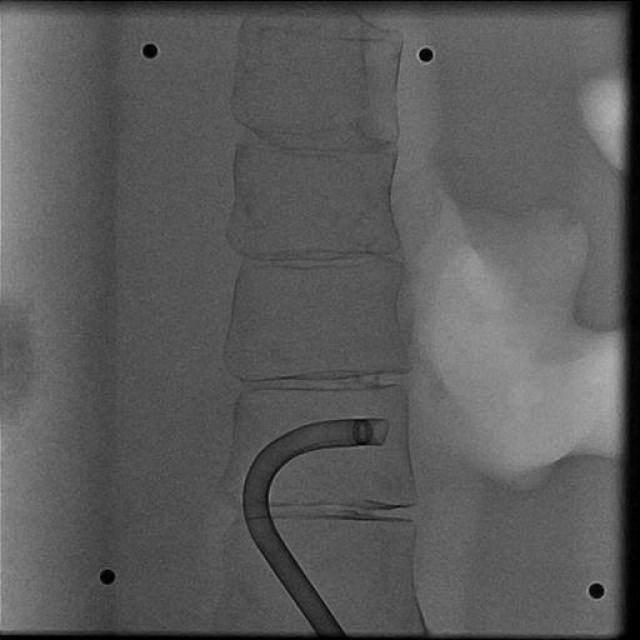bend: (246, 508, 270, 524)
entry: (316, 630, 346, 636)
marker: (351, 418, 374, 447)
tip: (370, 420, 389, 446)
